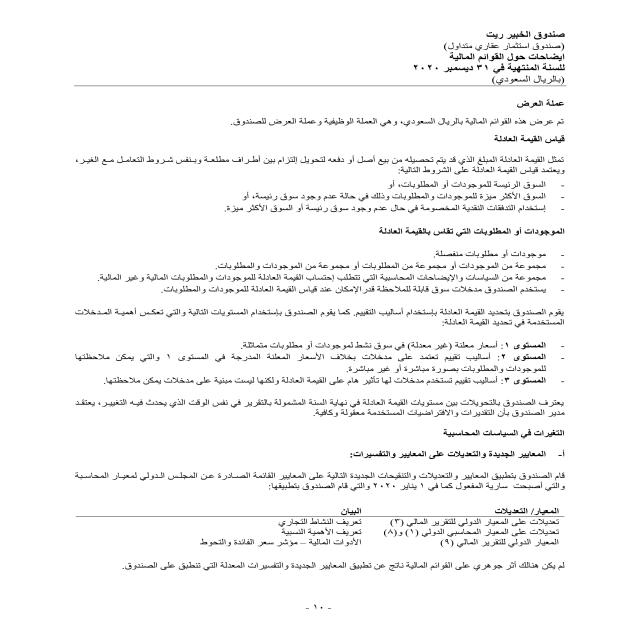notes: (450, 51, 569, 63)
text: (46, 90, 576, 583)
